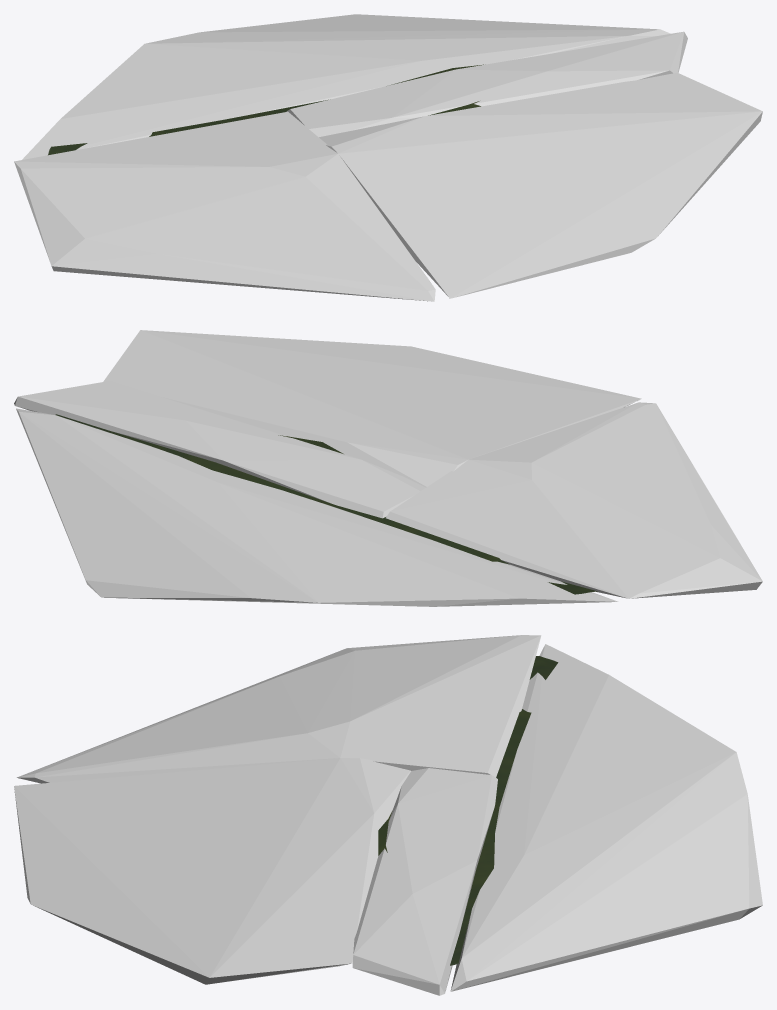
The model's file is SM_Leaf_05.fbx.
3 views of the same model, one above another, from view 1: azimuth 30°, elevation 25°; view 2: azimuth 150°, elevation 25°; view 3: azimuth 270°, elevation 25° (orthographic). The views are drawn at different scales.
Parts seen in each view (by area): view 1: SM_Leaf_05_ConvexHulls, SM_Leaf_05_LOD0; view 2: SM_Leaf_05_ConvexHulls, SM_Leaf_05_LOD0; view 3: SM_Leaf_05_ConvexHulls, SM_Leaf_05_LOD0.
Boxes of the visible parts, x1,y1,x2,y2 form: SM_Leaf_05_ConvexHulls: (14,14,762,301); SM_Leaf_05_LOD0: (48,64,483,155); SM_Leaf_05_ConvexHulls: (14,330,762,606); SM_Leaf_05_LOD0: (55,414,597,594); SM_Leaf_05_ConvexHulls: (14,635,762,995); SM_Leaf_05_LOD0: (378,656,558,965).
Size of the model in its own units: 21.27 by 17.25 by 1.64.
